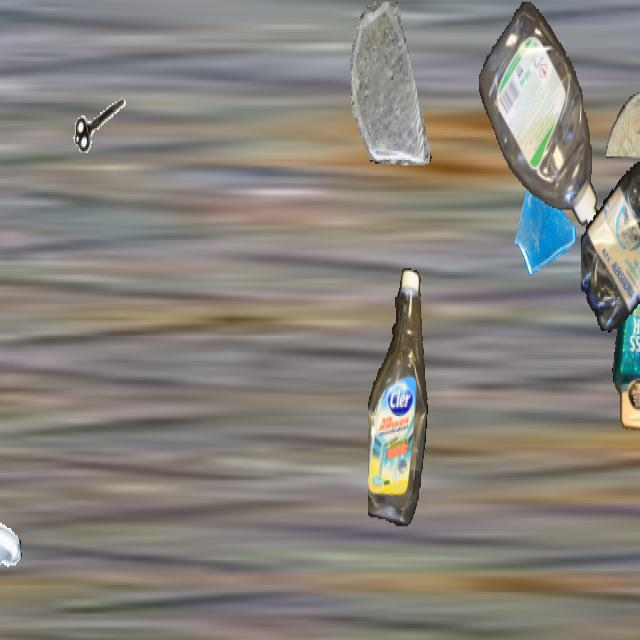glass: (345, 2, 437, 165), (513, 167, 579, 285)
metal: (71, 74, 129, 178), (617, 516, 640, 622), (0, 516, 22, 622)
plastic: (479, 2, 599, 233), (368, 268, 428, 524), (581, 89, 640, 338), (608, 176, 640, 428)
wood: (606, 89, 640, 156)
